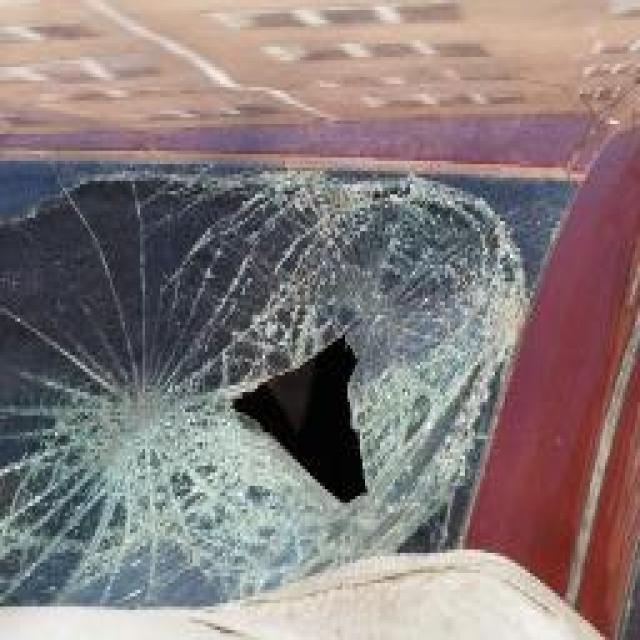Windshield: (0, 174, 525, 610)
